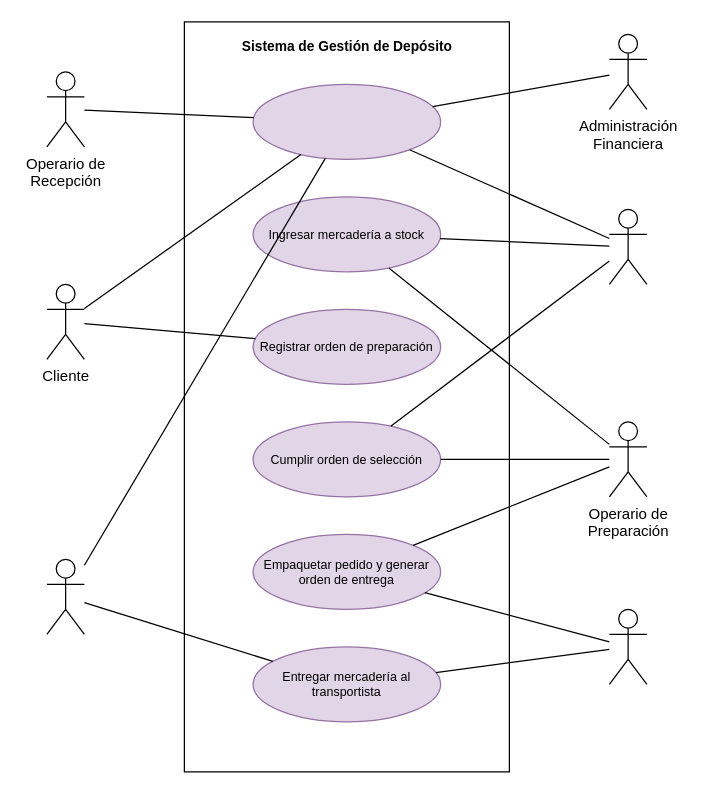
This 705x794 diagram has some shape labels left out. Here are the shapes that lost their labels. From the top down, the box of each, then its label:
(252, 83, 441, 159): Recibir mercadería
(608, 208, 647, 284): Operario de Almacenamiento
(46, 558, 84, 634): Transportista
(608, 608, 647, 684): Operario de Despacho
